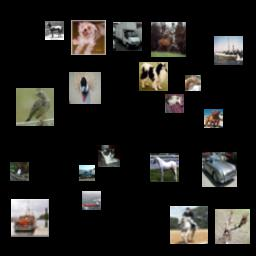automobile: (202, 152, 237, 187)
bird: (16, 88, 54, 126), (69, 72, 101, 104), (10, 162, 29, 181)
cat: (98, 145, 120, 167), (165, 94, 184, 113)
deer: (151, 22, 186, 57), (215, 209, 250, 244)
dog: (71, 20, 106, 55), (139, 62, 168, 91), (204, 109, 223, 128)
ship: (11, 199, 49, 237), (214, 36, 243, 65), (82, 191, 101, 210)
truck: (113, 22, 142, 51), (79, 165, 95, 181)
